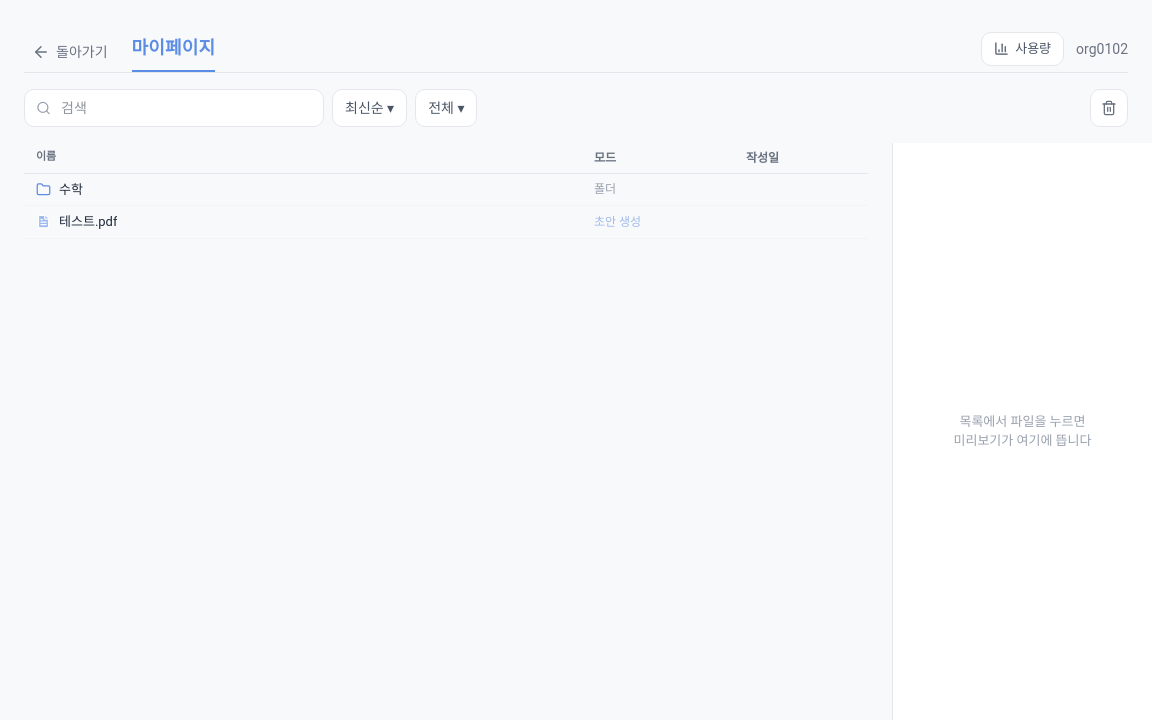
Test: 마이페이지 · 빈 곳 우클릭 › 줄을 우클릭하면 빈 곳 메뉴가 아니라 그 항목 메뉴가 뜬다
Expected: the text "수학" is shown, [59,180,83,199]
Right-click the text "수학" at (446, 190), box [24,174,868,206]
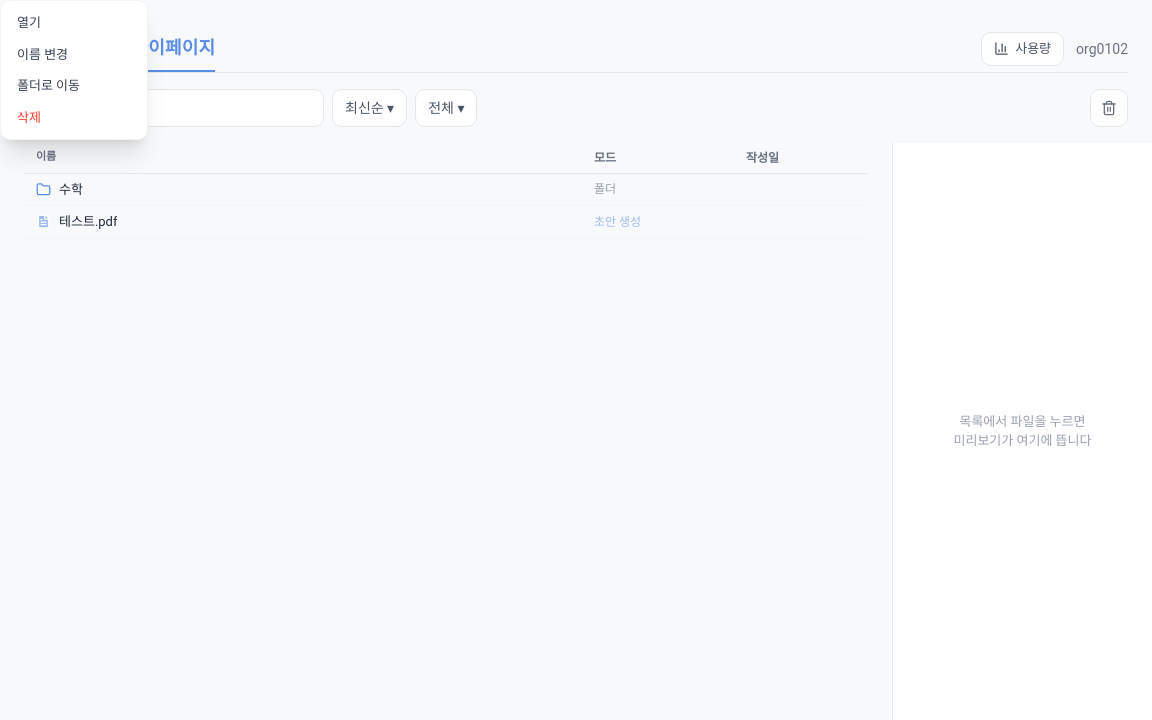
Expected: the menu item "열기" is shown, [1,7,147,38]
